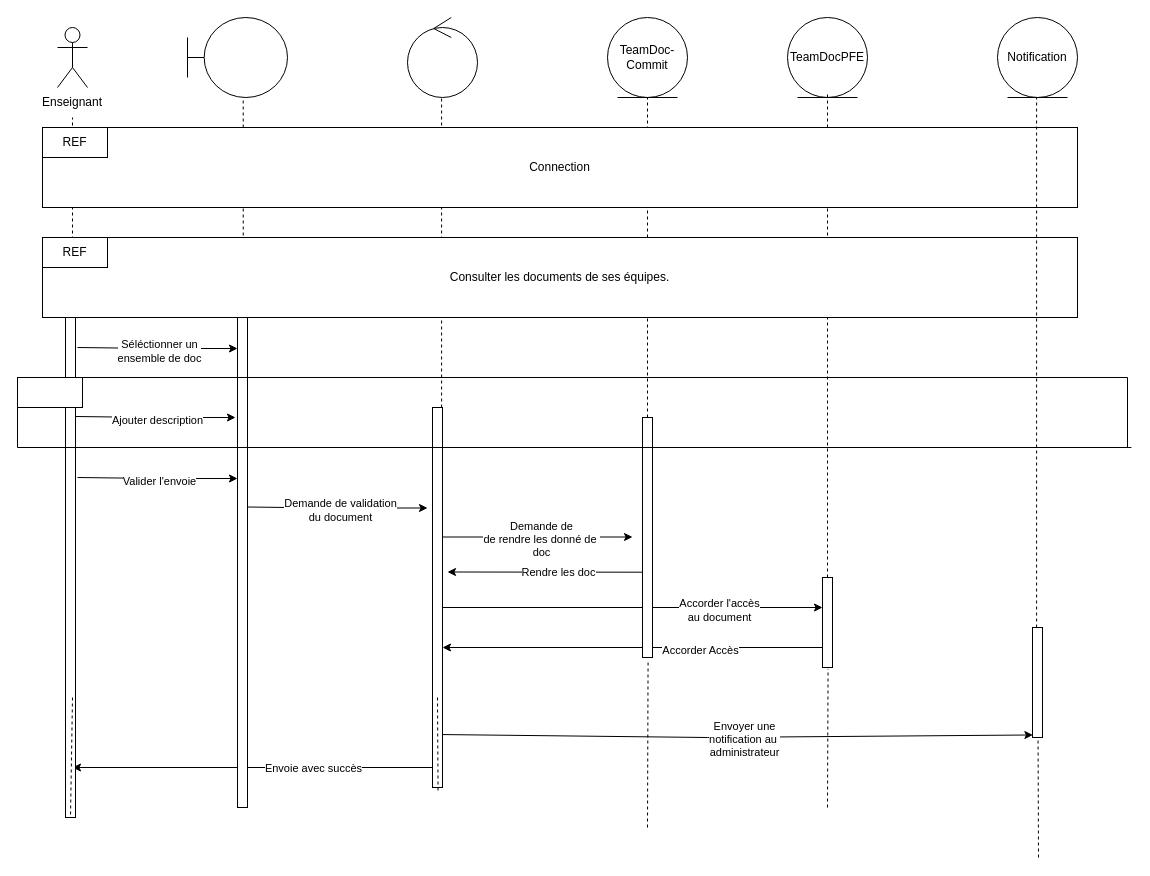
This 1150x876 diagram has some shape labels left out. Here are the shapes that lost their labels. From the top down, the box of each, then its label:
(186, 16, 288, 98): Team Document
(406, 16, 478, 98): Contrôleur
(16, 376, 82, 408): OPT
